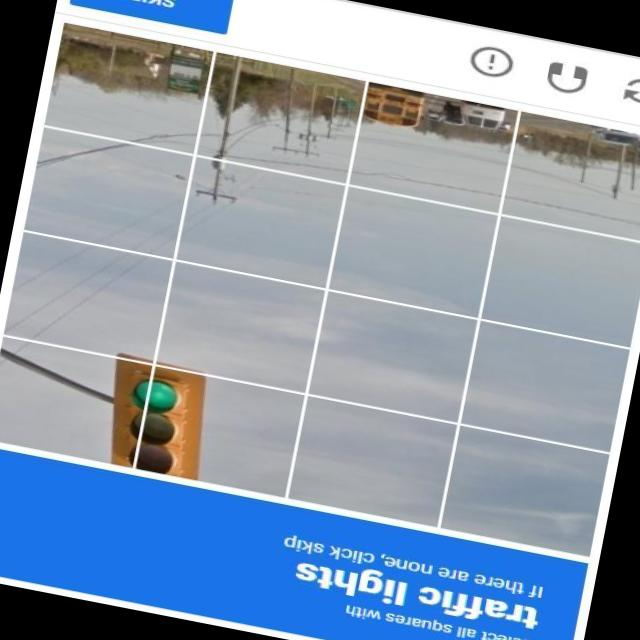green-lights: (116, 366, 194, 421)
